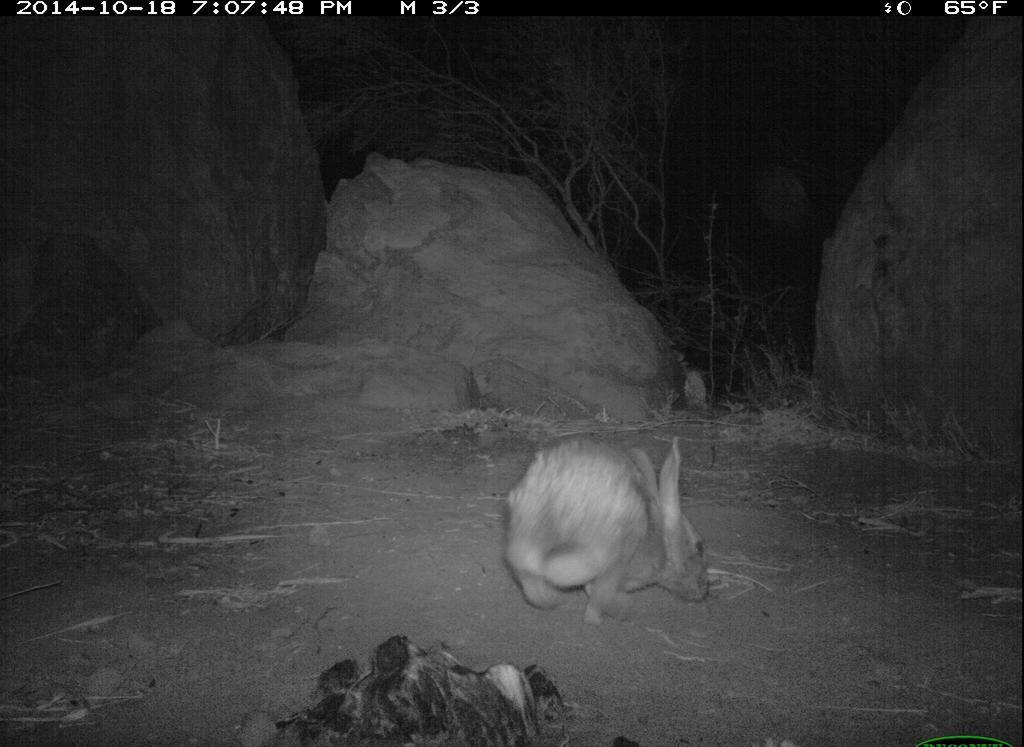rabbit: (498, 427, 724, 633)
